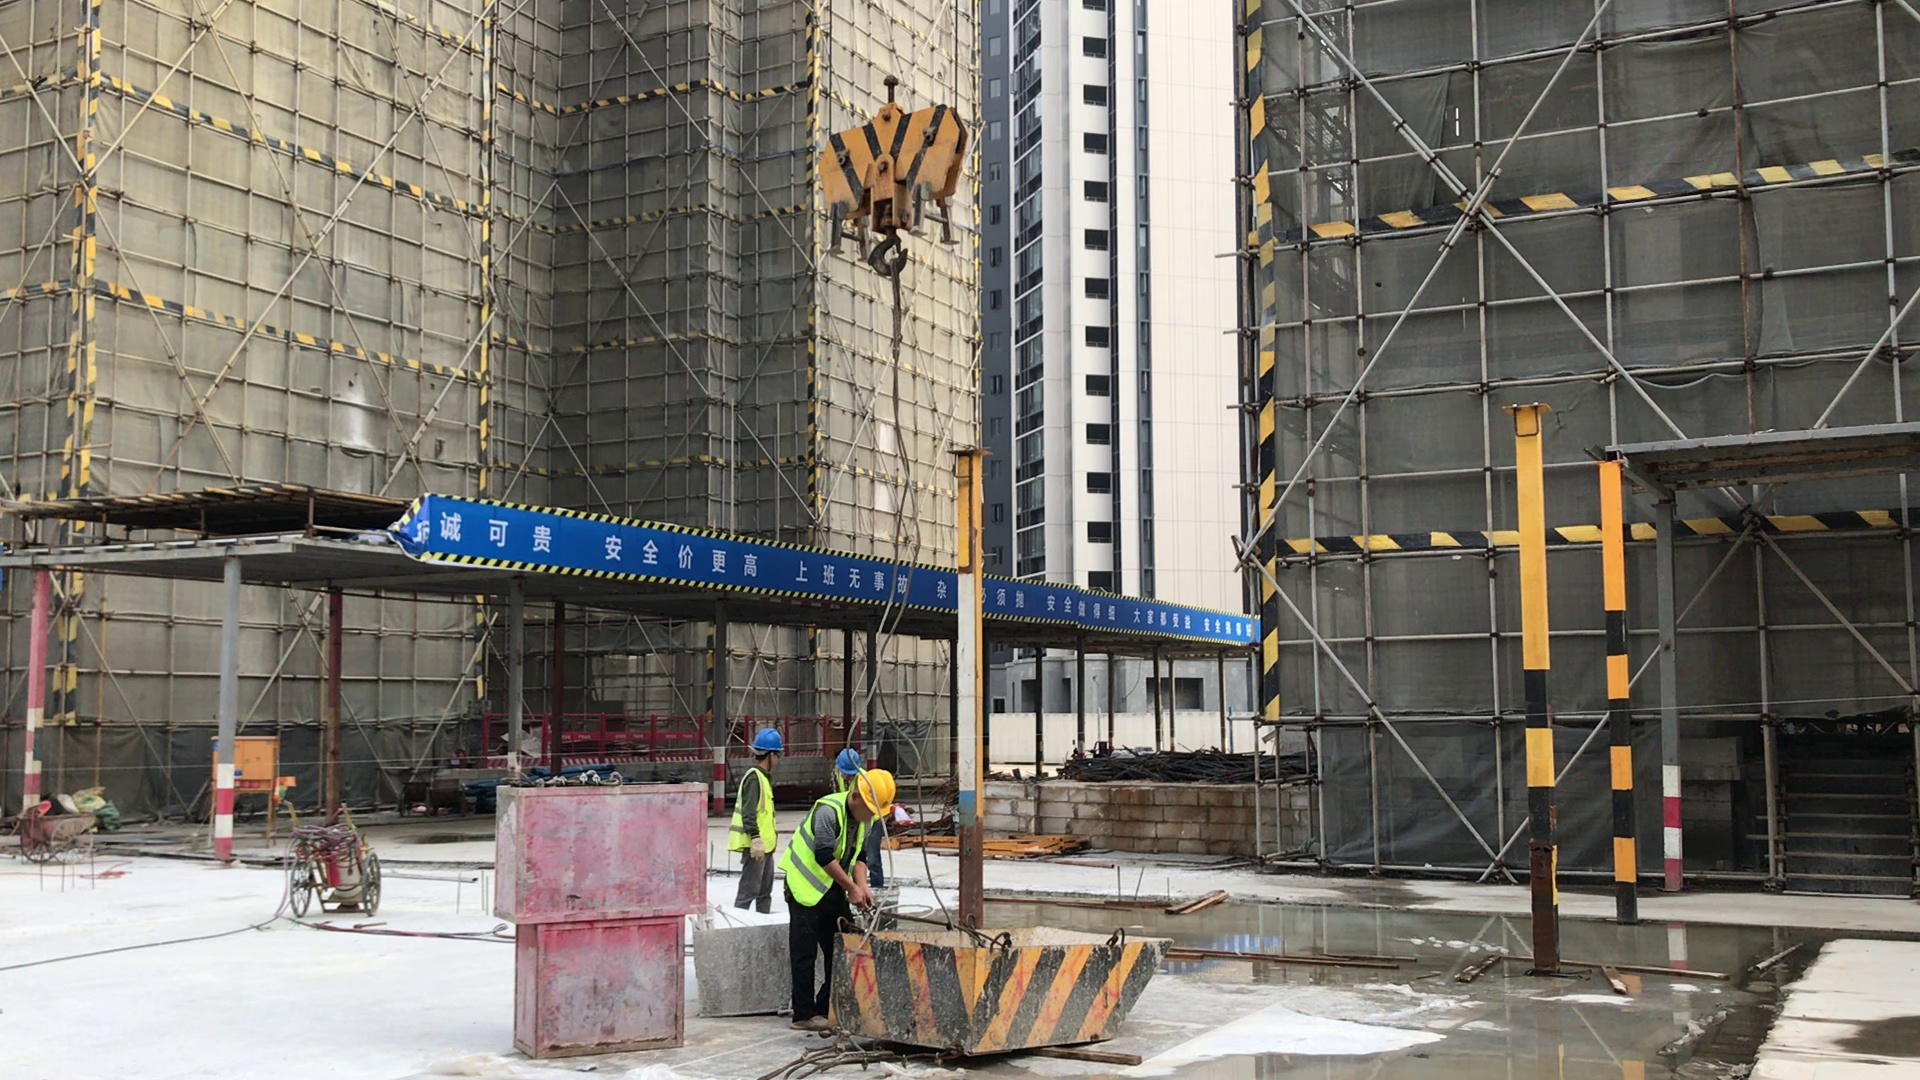ebox: (232, 730, 285, 842)
fence: (432, 495, 951, 616), (987, 582, 1255, 646), (571, 705, 703, 765), (789, 716, 830, 763)
handcart: (278, 798, 382, 922), (1, 810, 93, 868)
helmet: (854, 769, 897, 817), (834, 747, 863, 779), (752, 730, 782, 754)
hook: (811, 75, 985, 285)
hopper: (841, 919, 1170, 1057), (680, 906, 795, 1026)
person: (777, 768, 897, 1032), (728, 729, 780, 915)
vest: (779, 788, 865, 906), (728, 766, 779, 860)
